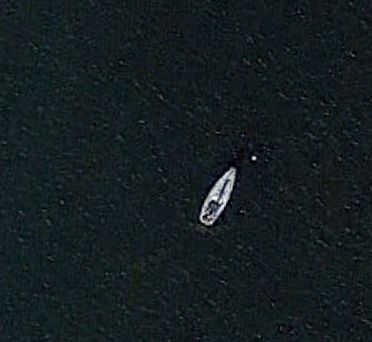boat: (198, 165, 238, 227)
